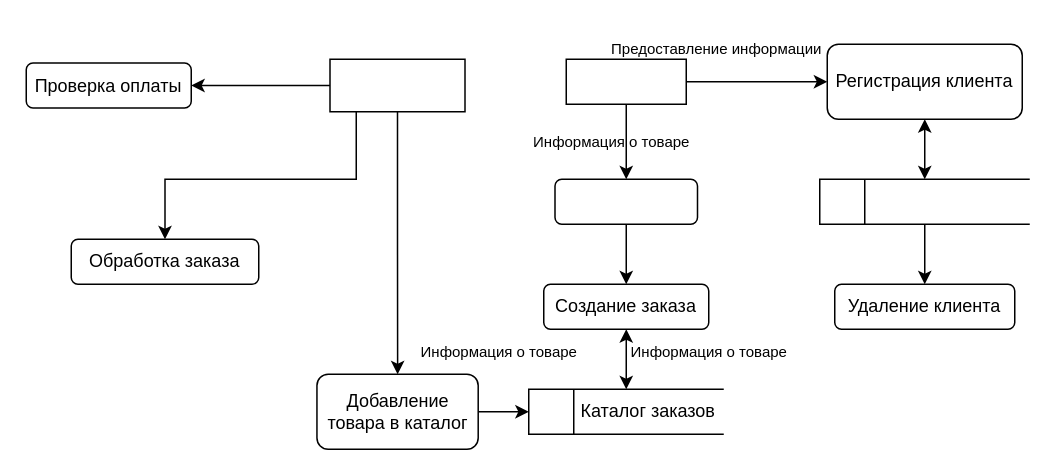
Some shapes in this 1056 by 476 pixel diagram are drawn without their labels. The shapes that lost their labels are listed below. From the top down, each one's box as (x1, y1, x2, y2) in pixels, then its label:
(328, 58, 465, 112): Администратор
(565, 58, 686, 104): Клиент
(554, 178, 698, 224): Поиск товара
(818, 178, 1030, 224): Каталог клиентов
